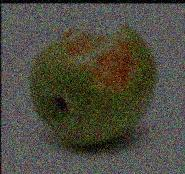rotten apple: (20, 18, 160, 147)
